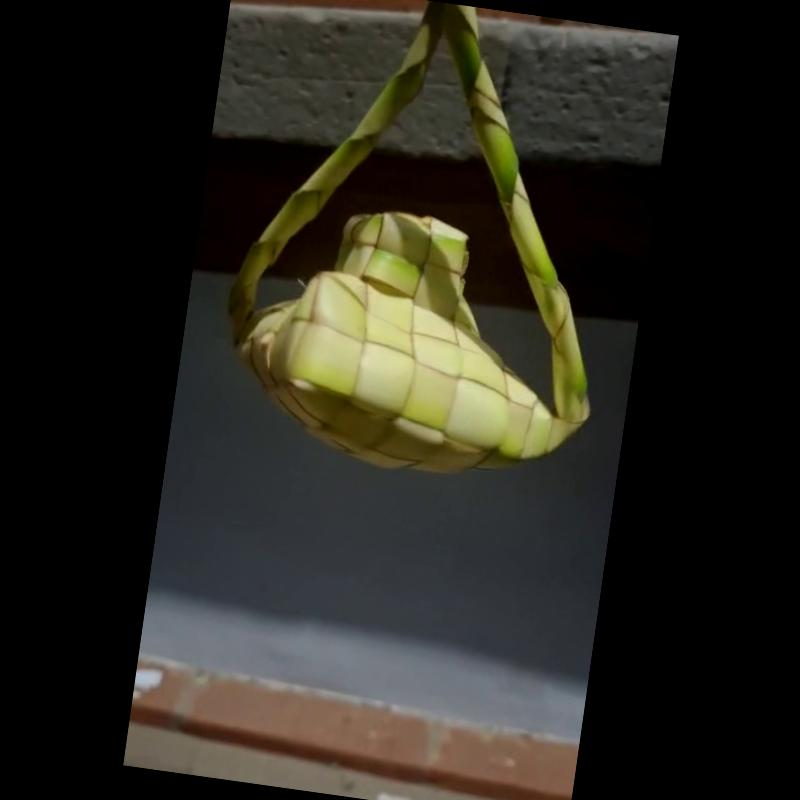Tipat Gong: (223, 1, 591, 476)
